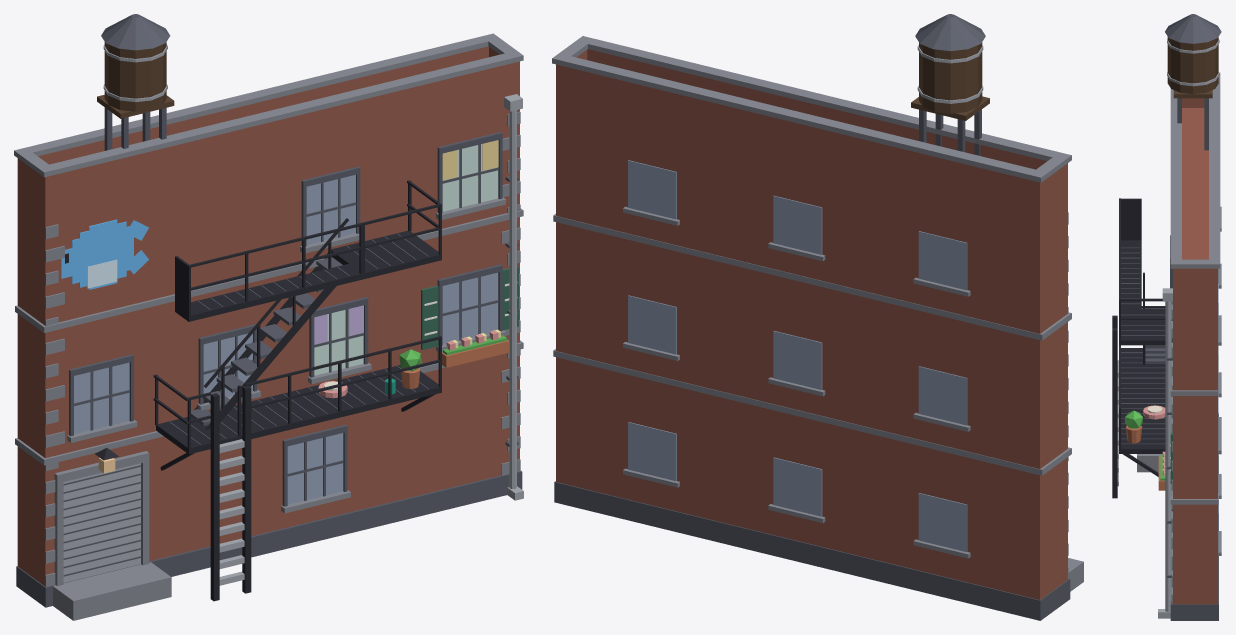
Rendered from CatCafe_Alley_Building_Warehouse.glb.
The picture shows the model from 3 angles, left to right: view 1: azimuth 30°, elevation 25°; view 2: azimuth 150°, elevation 25°; view 3: azimuth 270°, elevation 25°; orthographic projection. The views are drawn at different scales.
Parts seen in each view (by area): view 1: CatCafe_Alley_Building_Warehouse, CatCafe_Alley_Building_Warehouse_Pane, CatCafe_Alley_Building_Warehouse_Flowers; view 2: CatCafe_Alley_Building_Warehouse; view 3: CatCafe_Alley_Building_Warehouse.
Part boxes in pixels (x1,y1,x2,y2): CatCafe_Alley_Building_Warehouse: [14, 14, 523, 620]; CatCafe_Alley_Building_Warehouse_Pane: [314, 144, 498, 375]; CatCafe_Alley_Building_Warehouse_Flowers: [443, 329, 506, 355]; CatCafe_Alley_Building_Warehouse: [552, 14, 1083, 620]; CatCafe_Alley_Building_Warehouse: [1112, 14, 1221, 620].
Bounding box in the file's own units: 30.3 × 33.6 × 7.3.
1 material, 1 textured.
